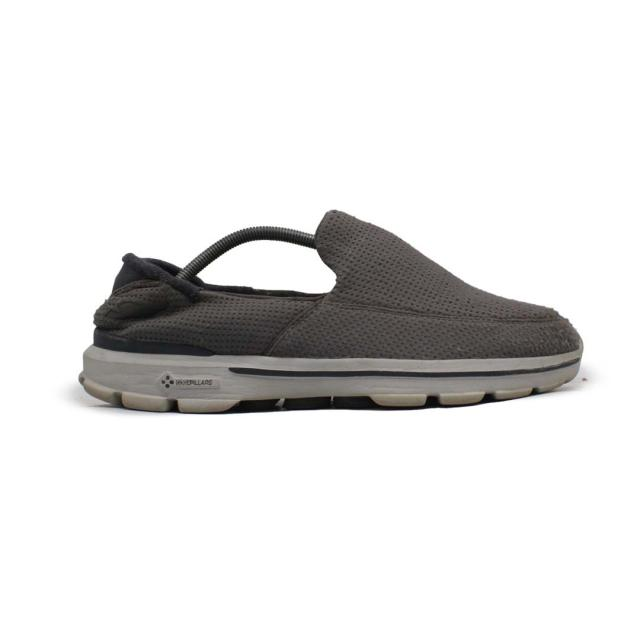heel: (87, 218, 135, 350)
midsole: (83, 340, 596, 413)
uppersole: (138, 216, 603, 360)
